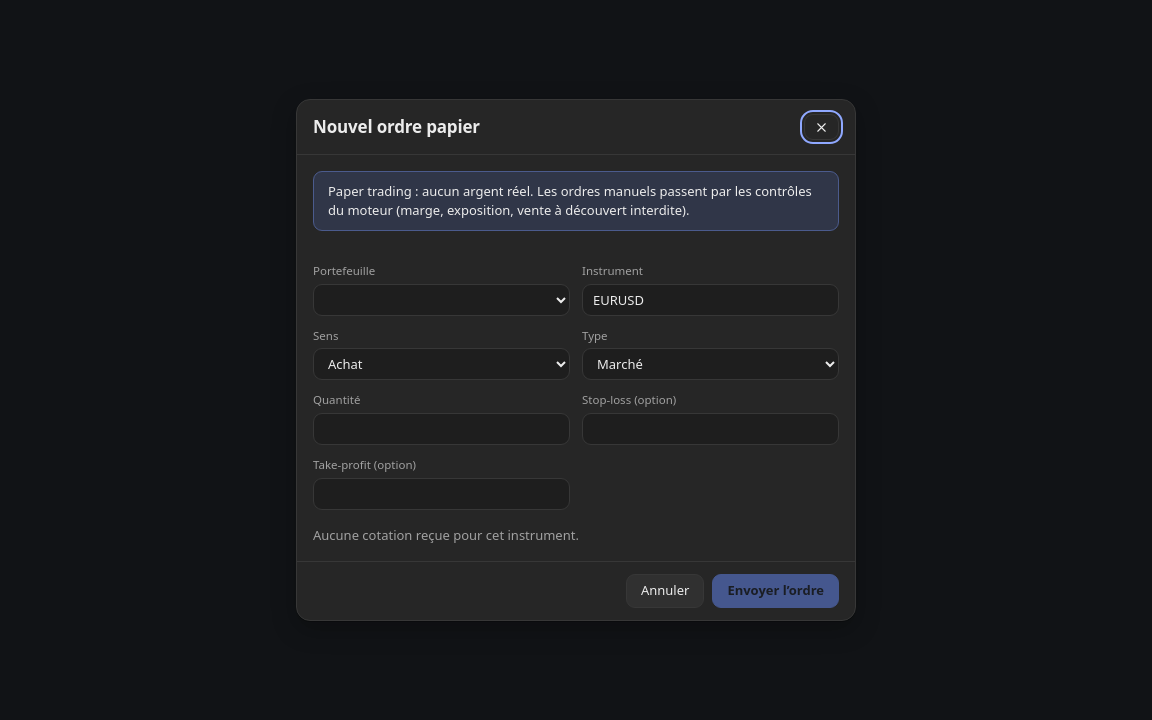
Test: ordre manuel › un ordre refusé par le moteur (HTTP 201 mais statut rejected) n’est jamais présenté comme envoyé
The image size is (1152, 720).
Type "1000" into the field labelled "Quantité".
click(442, 429); type("1000")  # box [313,413,570,445]
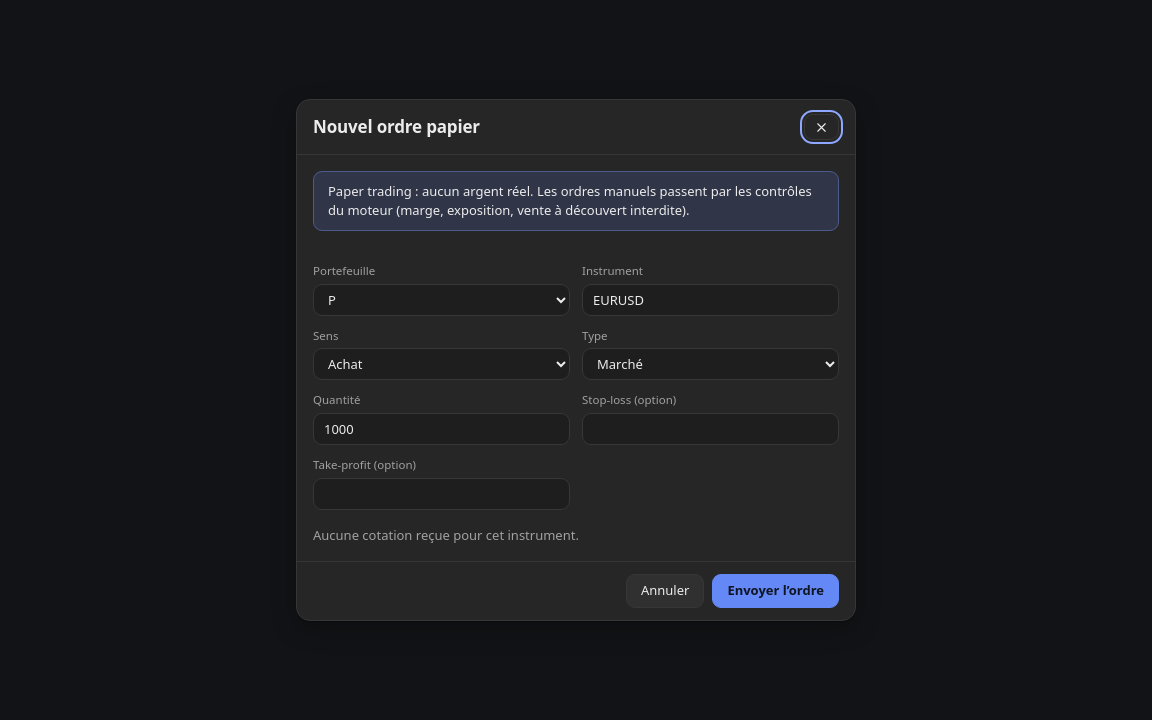
Expected: the button "Envoyer l’ordre" is enabled
Click the button "Envoyer l’ordre".
click(776, 591)  # box [712,574,839,608]
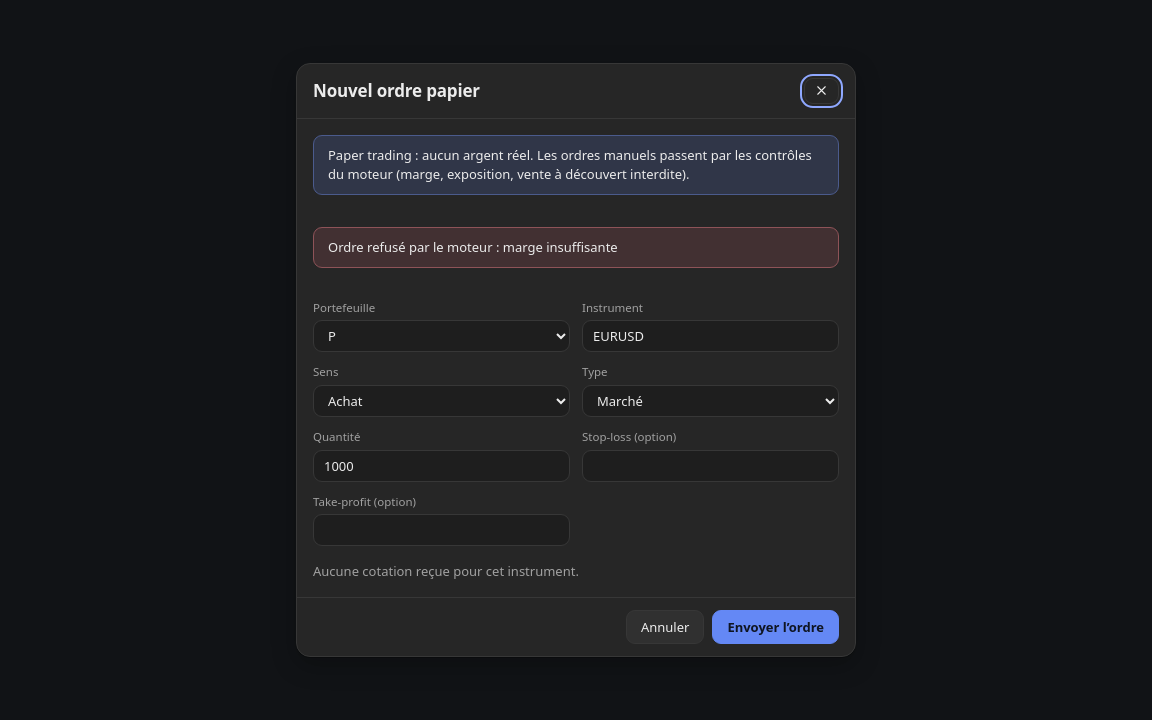
Expected: the text "Ordre refusé par le moteur : marge insuffisante" is shown, [313,227,839,268]
